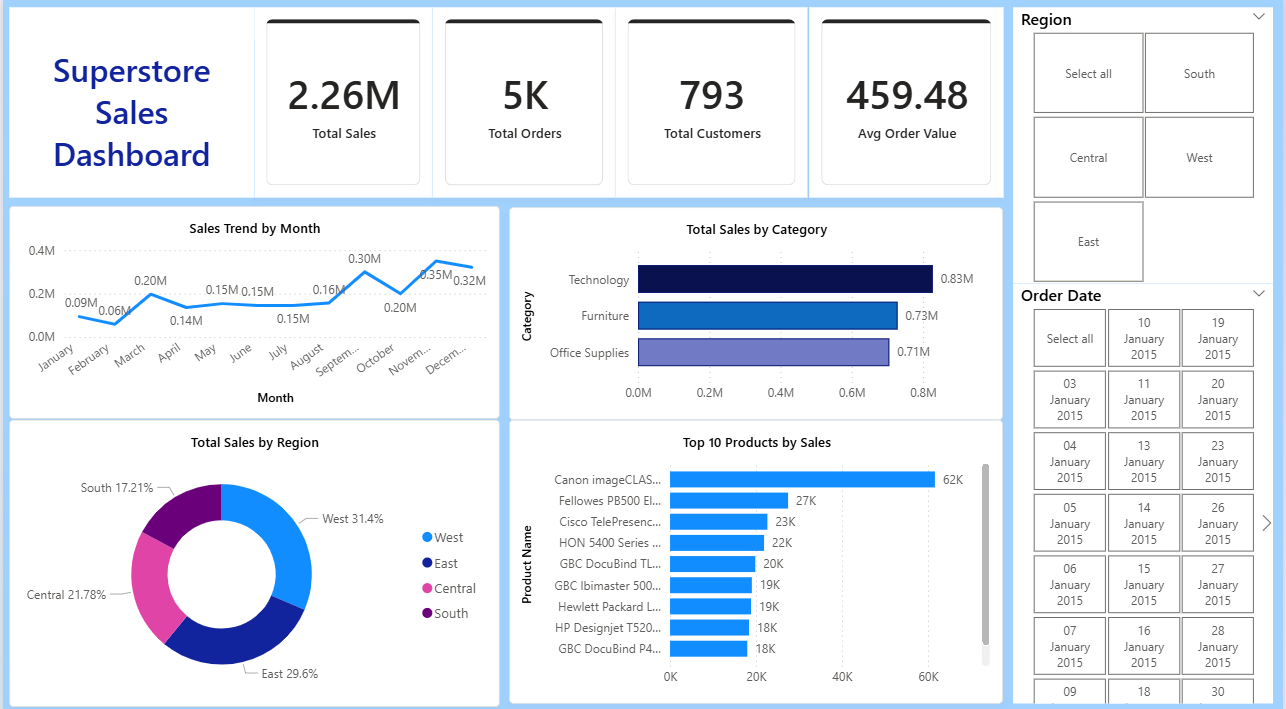

This screenshot's page, from the dashboard's own definition file:
{"tool":"powerbi","page":{"name":"Page 1","canvas":[1280,720],"ordinal":0},"visuals":[{"type":"cardVisual","fields":{"Data":["train.Total Sales"]},"box":[251.4,11.2,178.6,190],"z":0},{"type":"cardVisual","fields":{"Data":["train.Total Orders"]},"box":[430,11.2,182.9,190],"z":1000},{"type":"cardVisual","fields":{"Data":["train.Total Customers"]},"box":[612.5,11.2,193.8,190],"z":2000},{"type":"cardVisual","fields":{"Data":["train.Avg Order Value"]},"box":[805.7,11.2,194.3,190],"z":3000},{"type":"lineChart","title":"Sales Trend by Month","fields":{"Category":["train.Order Date.Variation.Date Hierarchy.Month"],"Y":["train.Total Sales"]},"box":[6.2,210,490,212.5],"z":4000},{"type":"clusteredBarChart","fields":{"Category":["train.Category"],"Y":["train.Total Sales"]},"box":[506.2,211.2,493.8,212.5],"z":5000},{"type":"donutChart","fields":{"Category":["train.Region"],"Y":["train.Total Sales"]},"box":[6.2,423.8,490,287.5],"z":6000},{"type":"clusteredBarChart","title":"Top 10 Products by Sales","fields":{"Category":["train.Product Name"],"Y":["train.Total Sales"]},"box":[506.2,423.8,493.8,283.8],"z":7000},{"type":"slicer","fields":{"Values":["train.Region"]},"box":[1010,11.2,260,276.2],"z":8000},{"type":"slicer","fields":{"Values":["train.Order Date"]},"box":[1010,287.5,260,420],"z":9000},{"type":"textbox","box":[6.2,11.2,245,190],"z":10000}]}

Visuals, with their boxes in screenshot pixels (x1, y1, x2, y2), scaled from the page's 1280x720 canvas onto the 1286x709 screenshot:
cardVisual - train.Total Sales: Rect(253, 11, 432, 198)
cardVisual - train.Total Orders: Rect(432, 11, 616, 198)
cardVisual - train.Total Customers: Rect(615, 11, 810, 198)
cardVisual - train.Avg Order Value: Rect(809, 11, 1005, 198)
"Sales Trend by Month" lineChart: Rect(6, 207, 499, 416)
clusteredBarChart - train.Category x train.Total Sales: Rect(509, 208, 1005, 417)
donutChart - train.Region x train.Total Sales: Rect(6, 417, 499, 700)
"Top 10 Products by Sales" clusteredBarChart: Rect(509, 417, 1005, 697)
slicer - train.Region: Rect(1015, 11, 1276, 283)
slicer - train.Order Date: Rect(1015, 283, 1276, 697)
textbox: Rect(6, 11, 252, 198)
